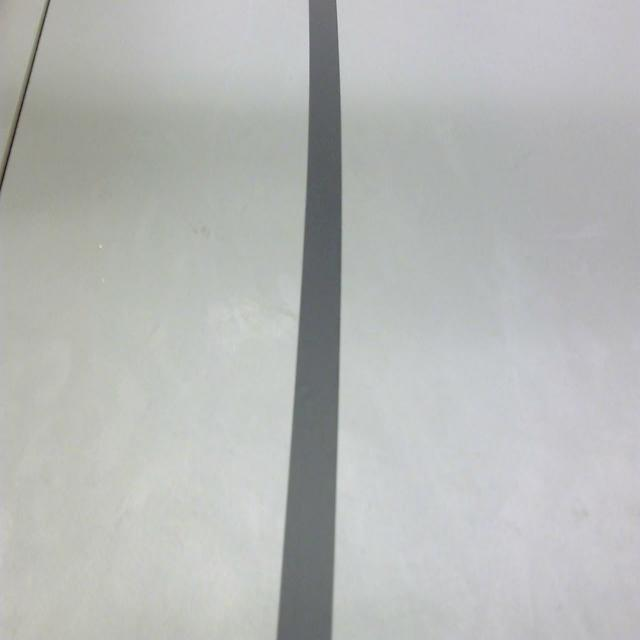tape: (274, 0, 344, 640)
